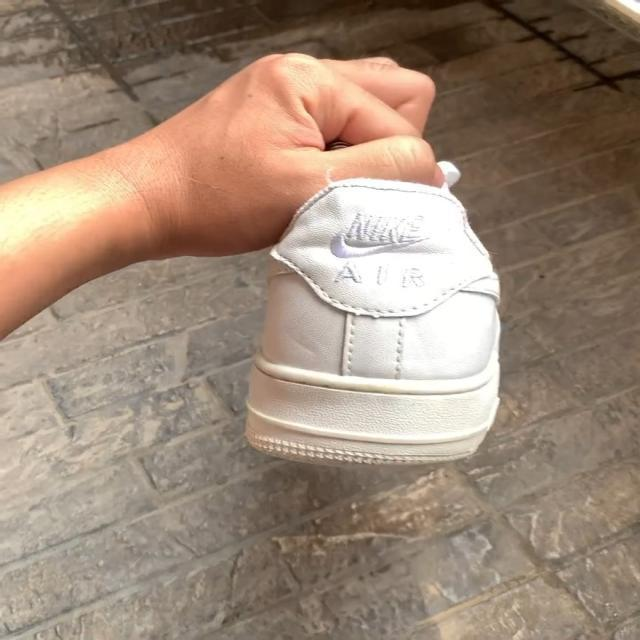nike fake air force: (242, 116, 512, 462)
